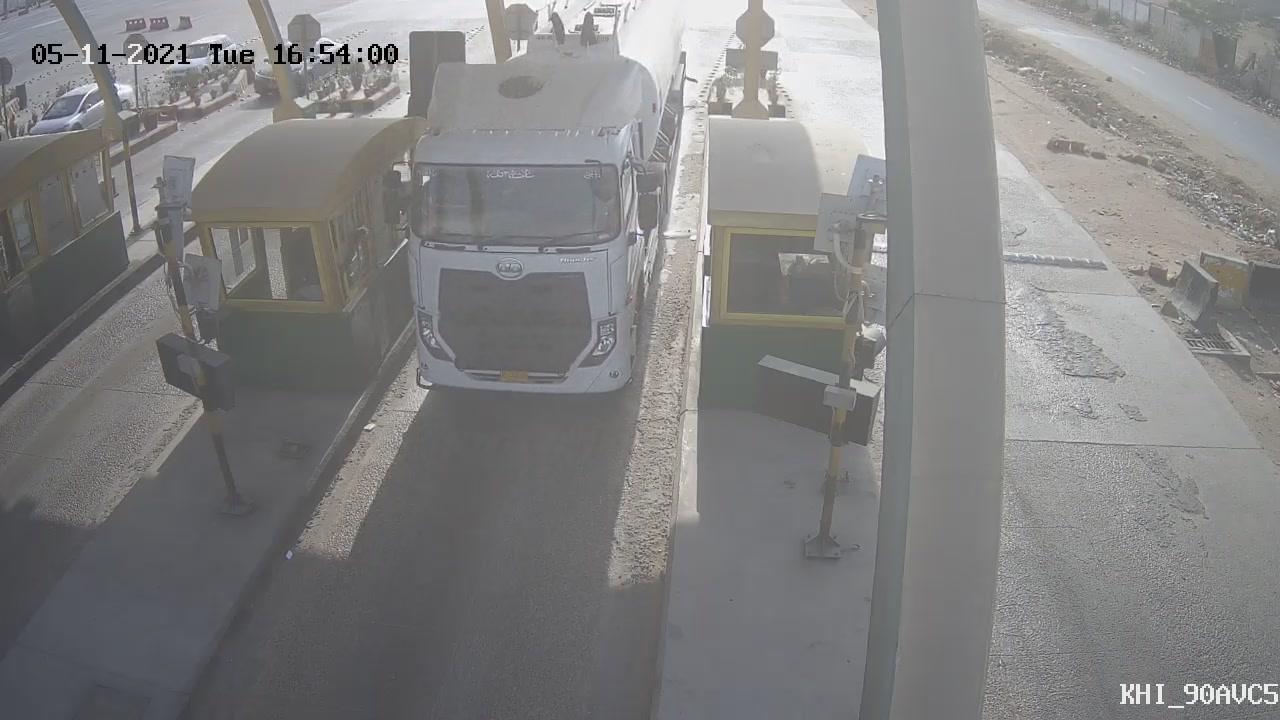F6: (369, 4, 705, 421)
